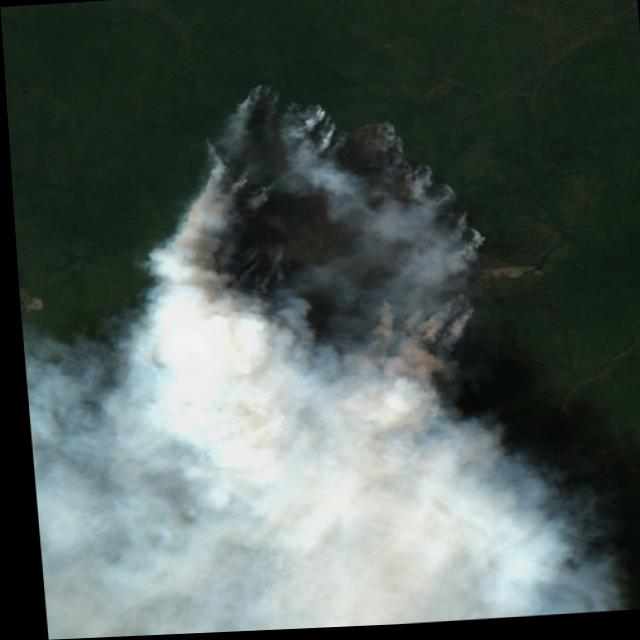fire: (142, 67, 497, 399)
